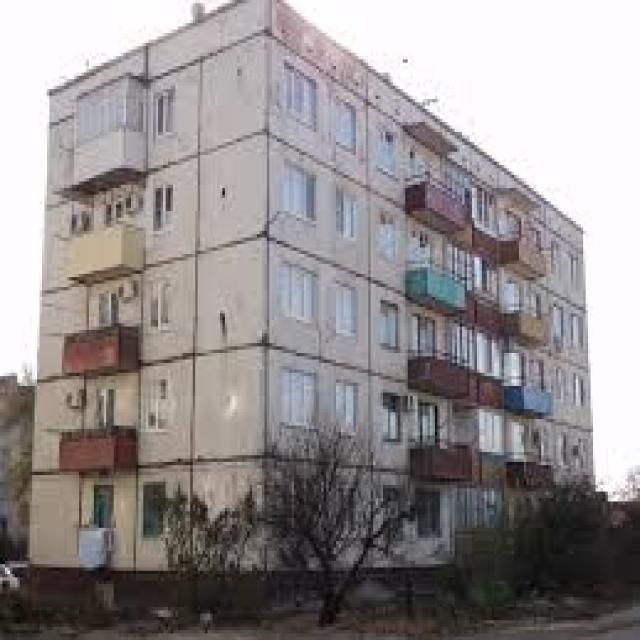window: (277, 59, 319, 129), (279, 366, 324, 426), (284, 267, 319, 327), (287, 158, 316, 221), (148, 277, 173, 343), (336, 376, 361, 432), (334, 188, 361, 238), (336, 280, 358, 336), (151, 89, 173, 142), (336, 99, 358, 152), (143, 383, 168, 429), (150, 185, 170, 241)
